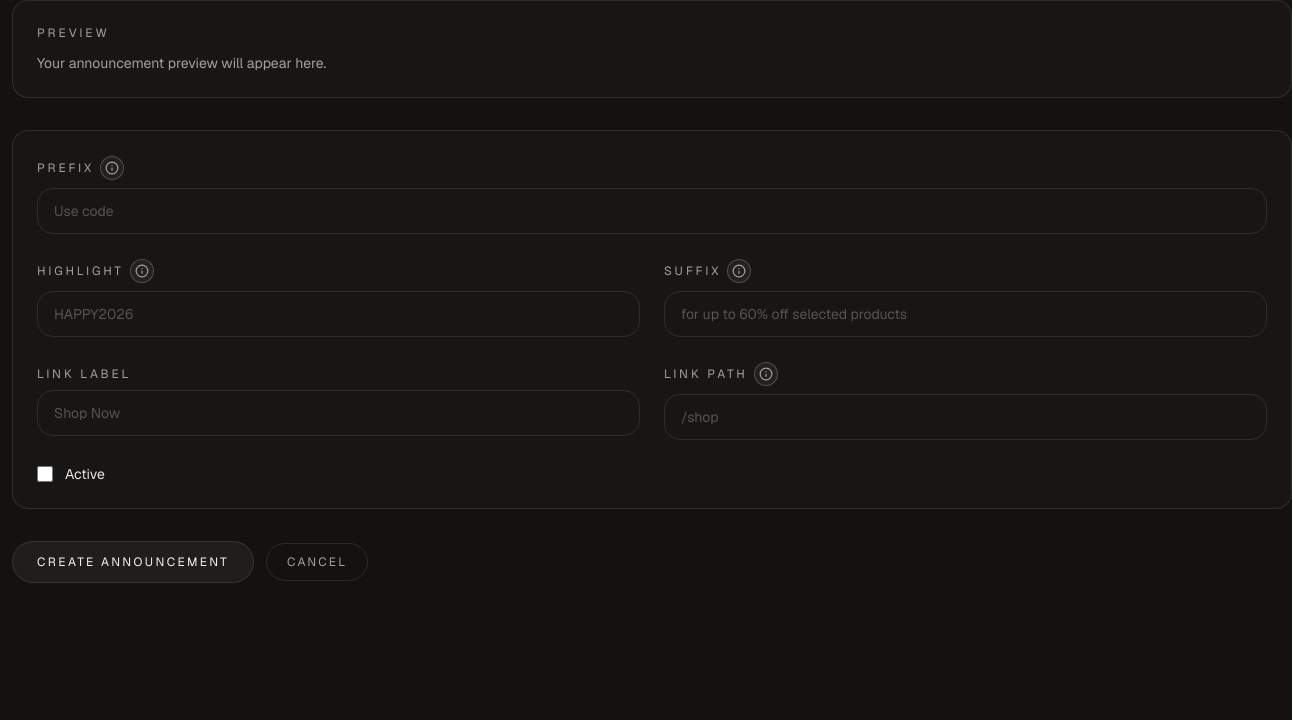
Test: announcement form › preview › updates as the fields are typed
Step 1. Type "SUMMER" into the field labelled "Highlight" → (338, 314), box top-left (37, 291), bottom-right (640, 337)
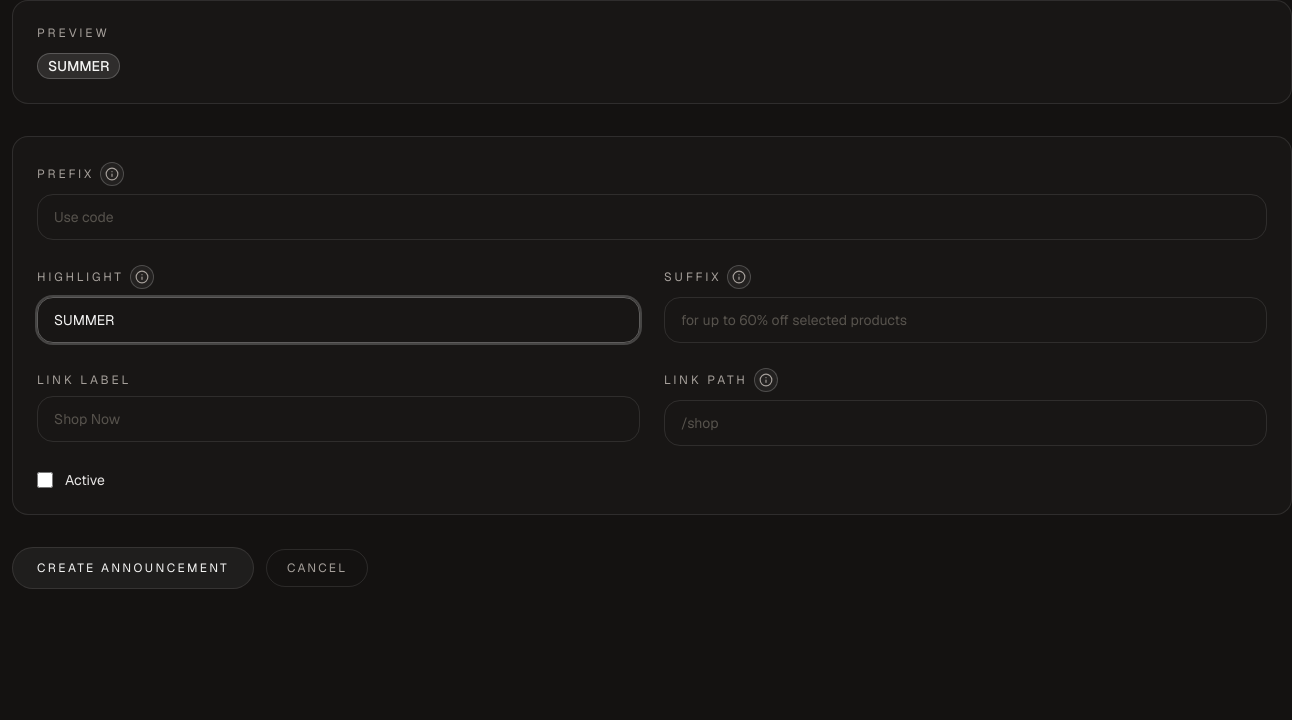
Expected: the text "SUMMER" is shown, top-left (37, 53), bottom-right (120, 79)
